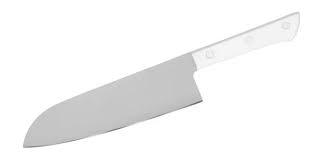Knife: (22, 10, 300, 148)
